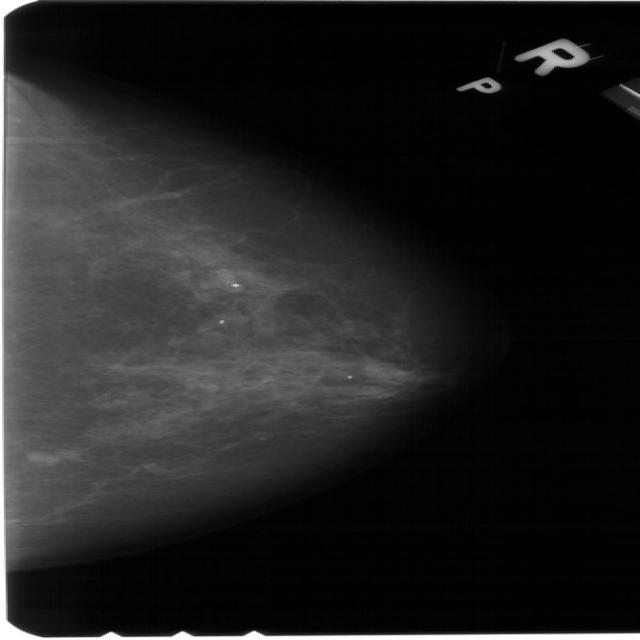tumour: (23, 449, 57, 467)
